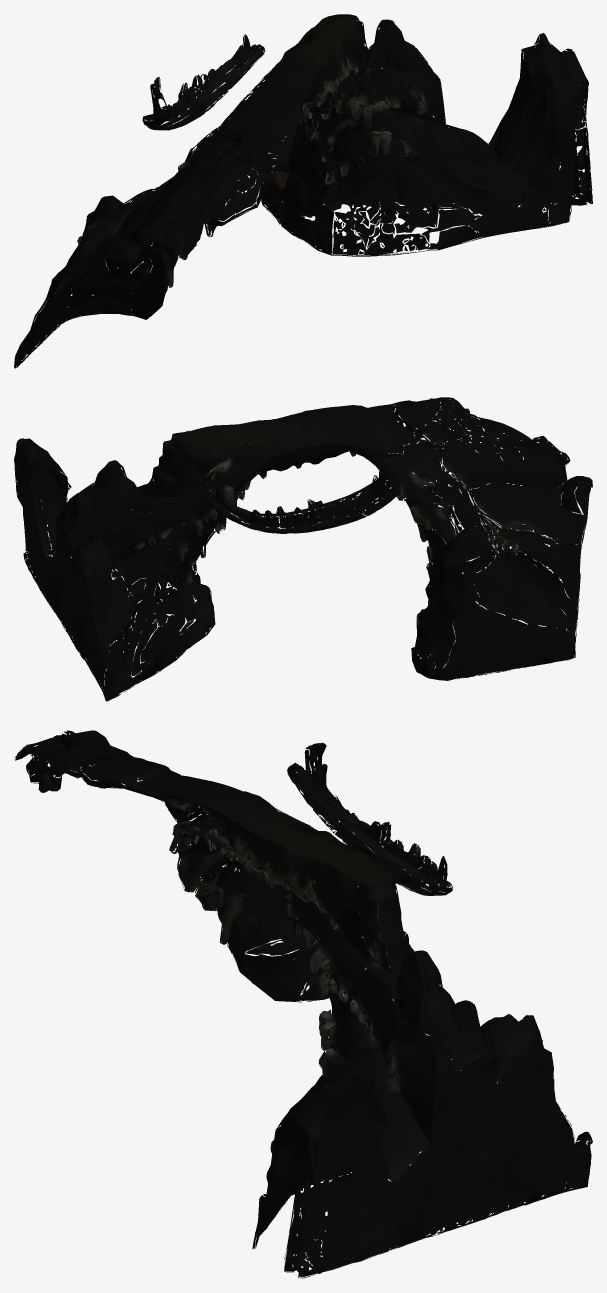
The model's file is cato-bridge-arch.glb.
3 views of the same model, one above another, from view 1: azimuth 30°, elevation 25°; view 2: azimuth 150°, elevation 25°; view 3: azimuth 270°, elevation 25° (orthographic). The views are drawn at different scales.
Visible parts, largest first — view 1: low; view 2: low; view 3: low.
Boxes of the visible parts, bbox=[...] form: low: bbox=[14, 14, 592, 368]; low: bbox=[14, 397, 592, 701]; low: bbox=[15, 730, 592, 1278].
Size of the model in its own units: 0.9427 by 0.3755 by 0.6169.
Materials: 1 (1 with a texture image).
